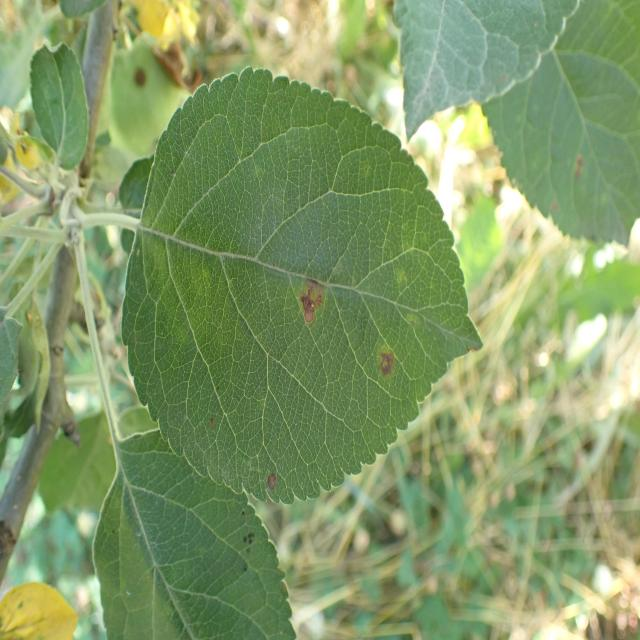Black Rot: (288, 271, 334, 338), (251, 459, 283, 521), (374, 336, 396, 392)
